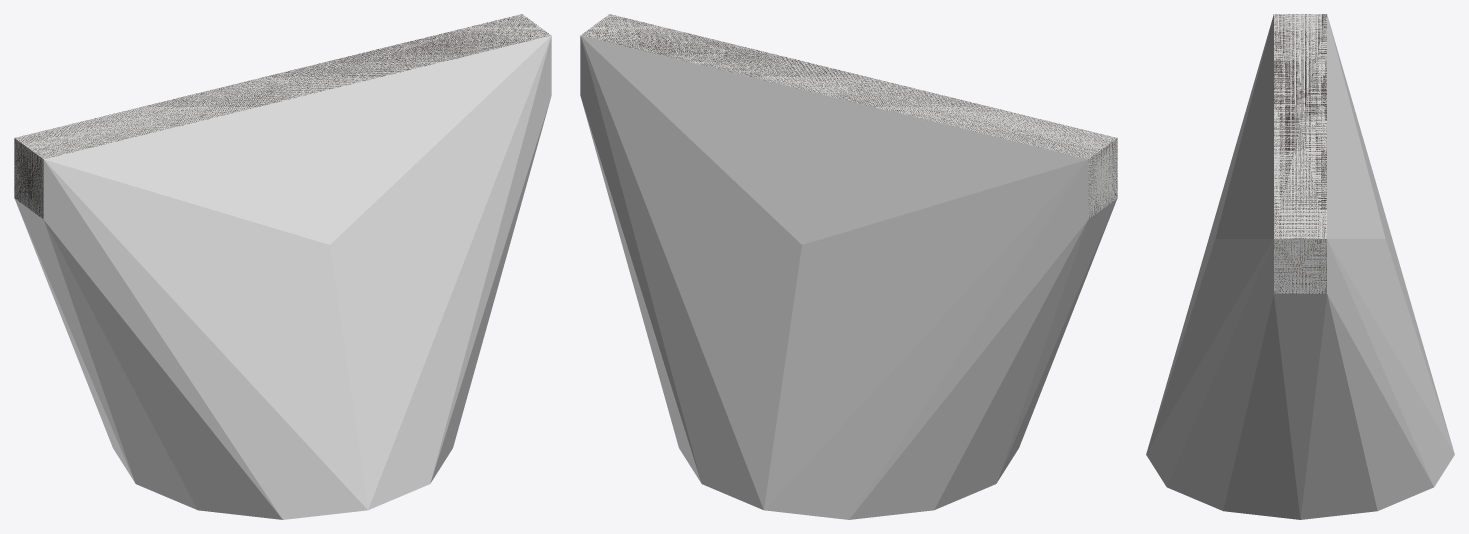
The model's file is bell.low.webp.glb.
The picture shows the model from 3 angles, left to right: view 1: azimuth 30°, elevation 25°; view 2: azimuth 150°, elevation 25°; view 3: azimuth 270°, elevation 25°; orthographic projection. The views are drawn at different scales.
Parts seen in each view (by area): view 1: COL, LOD1_body; view 2: COL, LOD1_body; view 3: COL, LOD1_body.
Boxes of the visible parts, left/top/right/bottom form: COL: left=14, top=14, right=551, bottom=519; LOD1_body: left=14, top=14, right=549, bottom=217; COL: left=580, top=14, right=1117, bottom=519; LOD1_body: left=582, top=14, right=1117, bottom=218; COL: left=1146, top=14, right=1454, bottom=519; LOD1_body: left=1274, top=14, right=1326, bottom=293.
Bounding box in the file's own units: 1.5 × 1.02 × 0.8701.
1 material, 1 textured.
